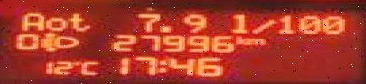-: (157, 24, 173, 33)
0: (298, 12, 317, 35), (320, 14, 341, 34), (13, 31, 35, 48)
1: (274, 12, 295, 35), (117, 56, 128, 76), (41, 60, 52, 76)
2: (108, 32, 133, 51), (52, 59, 71, 75)
4: (166, 56, 193, 75)
6: (195, 56, 219, 76), (209, 34, 233, 53)
7: (133, 11, 157, 31), (135, 32, 160, 50), (133, 54, 154, 75)
9: (181, 13, 206, 33), (160, 32, 184, 51), (184, 34, 206, 51)
X: (65, 11, 92, 30), (19, 10, 43, 30), (228, 11, 247, 34), (249, 18, 271, 34), (43, 15, 65, 30), (79, 60, 98, 75), (244, 36, 265, 43), (233, 35, 244, 44), (157, 57, 163, 71)
